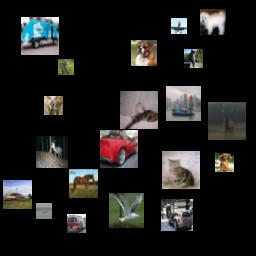airplane: (3, 180, 32, 209), (171, 18, 187, 34)
automobile: (100, 130, 138, 168), (161, 199, 193, 231)
bird: (109, 193, 144, 228)
cat: (120, 91, 158, 129), (162, 151, 200, 189), (58, 59, 74, 75)
deer: (208, 102, 246, 140), (36, 136, 68, 168), (44, 96, 63, 115)
dog: (131, 40, 157, 66), (200, 9, 226, 35), (215, 153, 234, 172)
ship: (166, 86, 201, 121), (36, 203, 52, 219)
truck: (21, 17, 59, 55), (67, 214, 86, 233)
